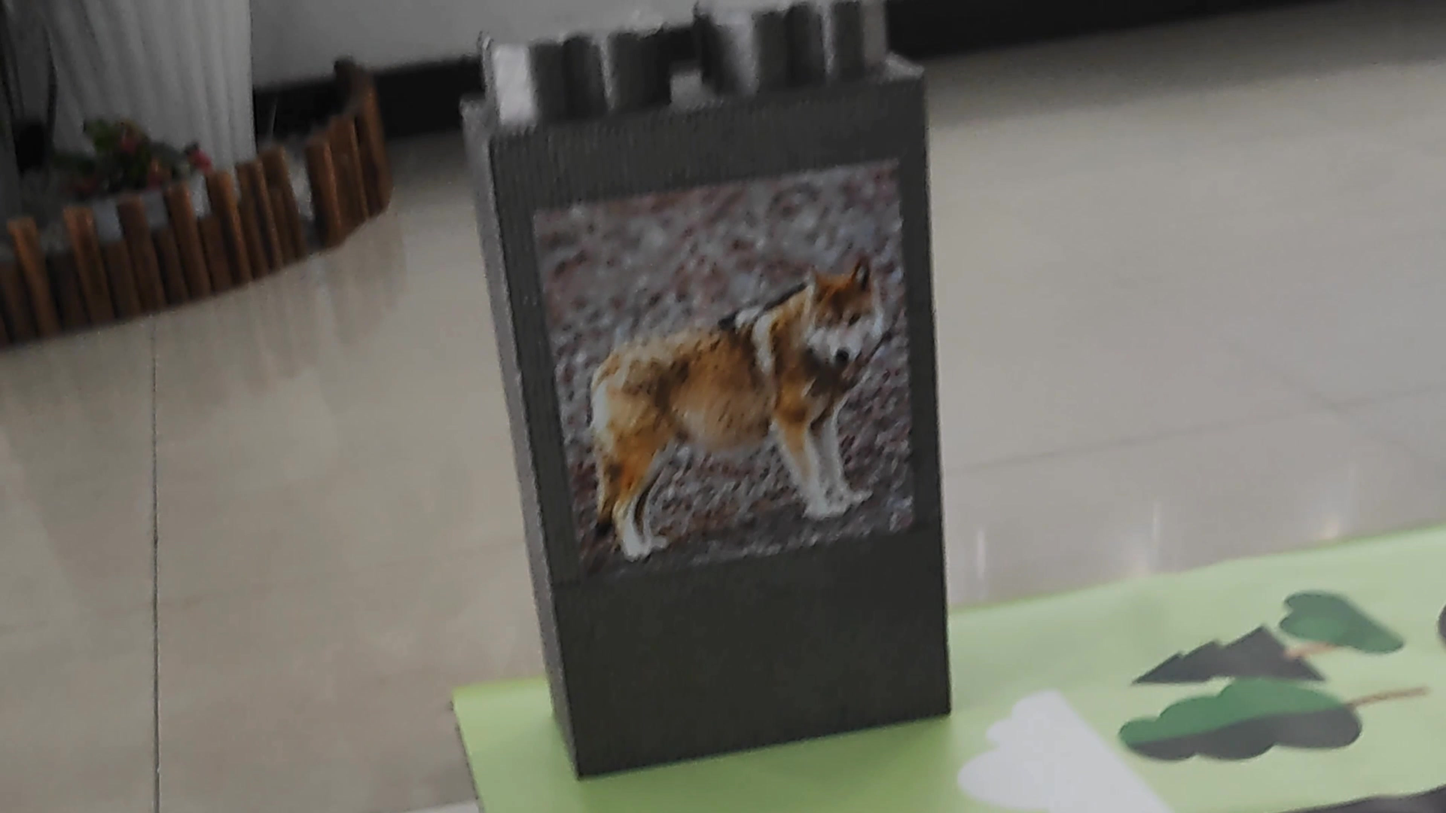wolf: (543, 256, 906, 560)
